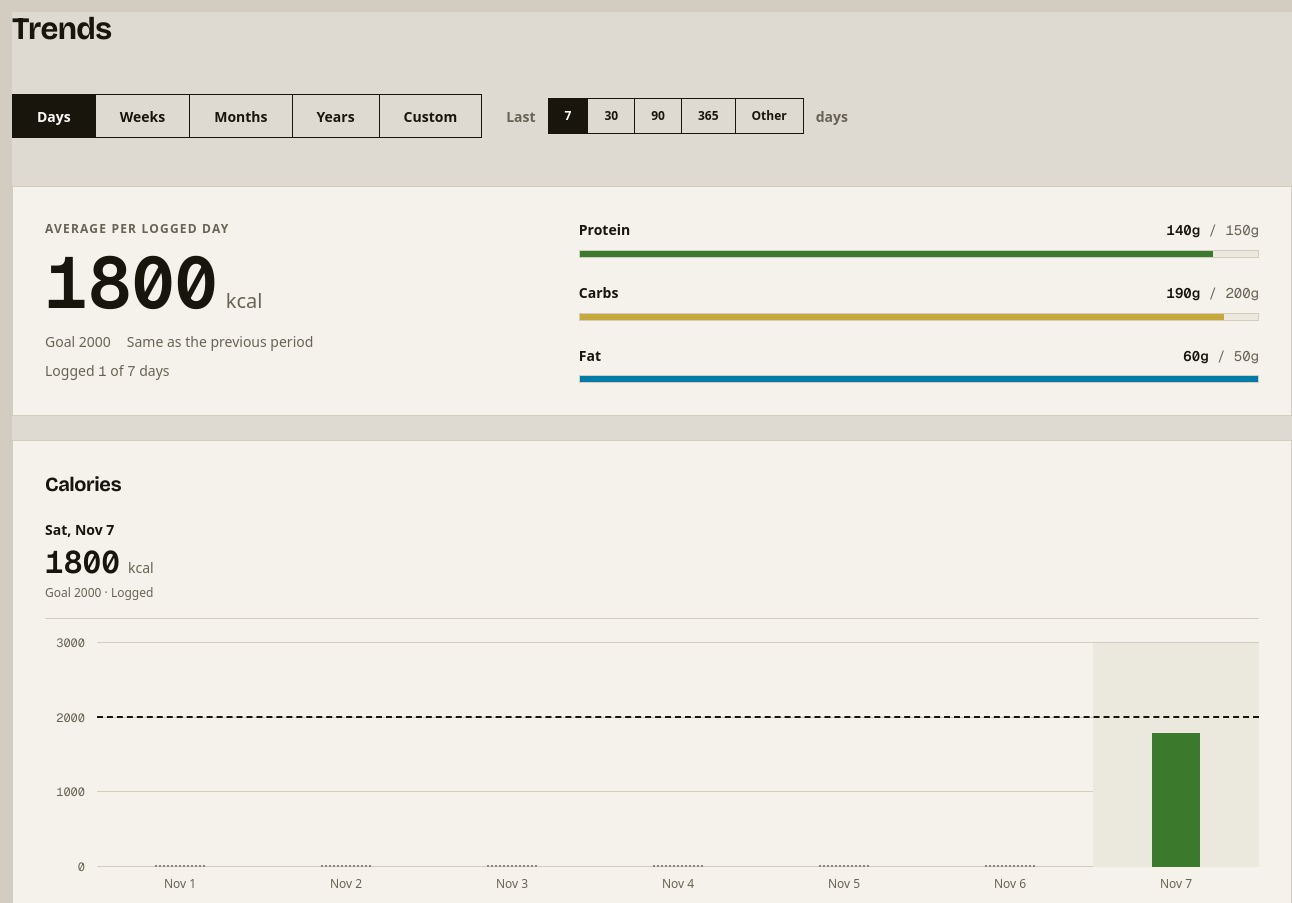
it: Trends › counts whole calendar months, comparing with the months before them
Check: the text "Average per logged day" is shown, box [45, 220, 229, 237]
Click the button "Months" at (241, 116), box [190, 95, 292, 137]
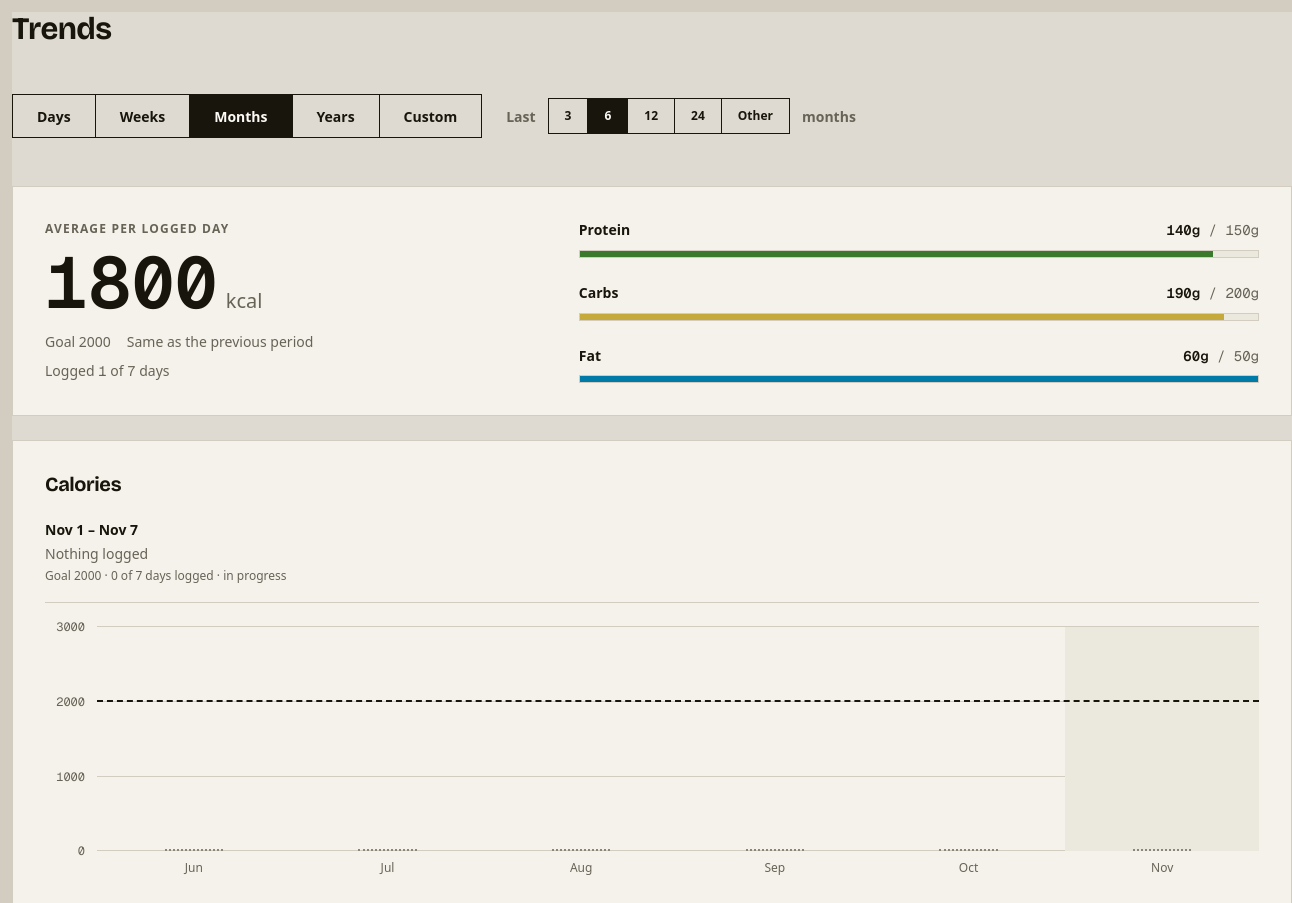
Check: the button "3" is shown, box [549, 99, 588, 133]
Check: the button "12" is shown, box [628, 99, 675, 133]
Check: the button "24" is shown, box [675, 99, 722, 133]
